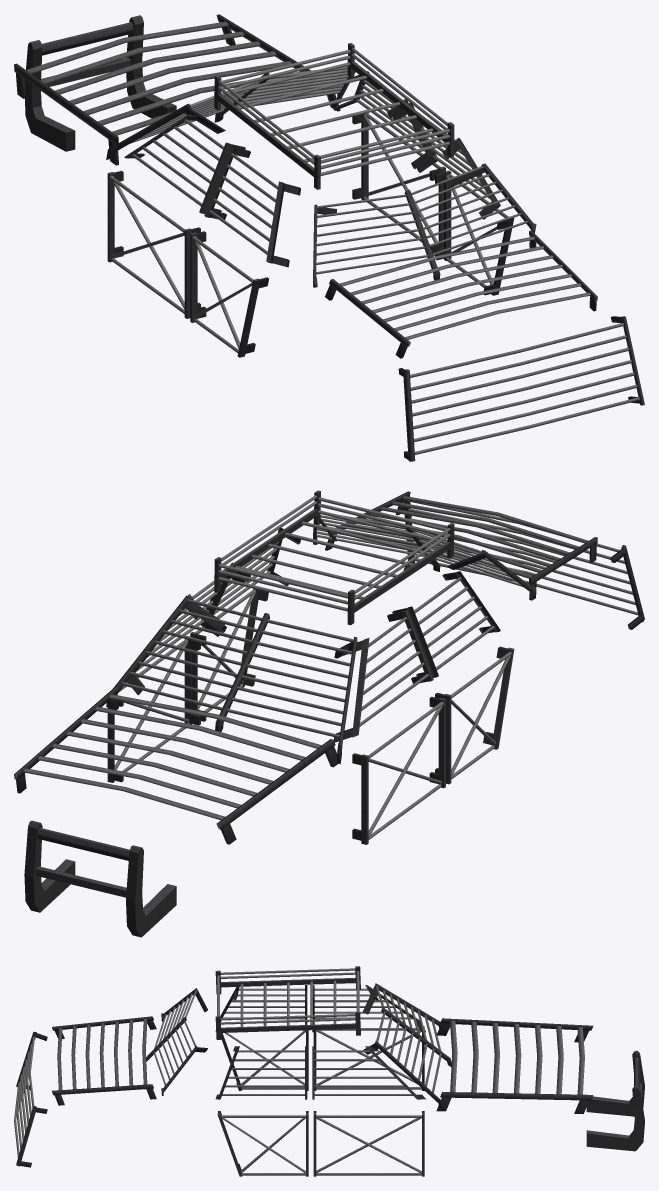
File: Vehicles_CarNormal_Light.fbx
The picture shows the model from 3 angles, top to bottom: view 1: azimuth 30°, elevation 25°; view 2: azimuth 150°, elevation 25°; view 3: azimuth 270°, elevation 25°; orthographic projection. The views are drawn at different scales.
Parts seen in each view (by area): view 1: normal_light_trunk_armor, normal_light_roofrack, normal_light_hood_armor, normal_light_rear_windshield_armor, normal_light_bullbar_armor, normal_light_windshield_armor, normal_light_front_left_door_armor, normal_light_rear_left_window_armor, normal_light_rear_left_door_armor, normal_light_front_left_window_armor, normal_light_front_right_door_armor, normal_light_rear_right_door_armor (+2 smaller); view 2: normal_light_hood_armor, normal_light_roofrack, normal_light_trunk_armor, normal_light_windshield_armor, normal_light_bullbar_armor, normal_light_rear_windshield_armor, normal_light_front_left_door_armor, normal_light_front_left_window_armor, normal_light_rear_left_door_armor, normal_light_rear_left_window_armor, normal_light_front_right_door_armor, normal_light_rear_right_door_armor (+2 smaller); view 3: normal_light_hood_armor, normal_light_trunk_armor, normal_light_roofrack, normal_light_windshield_armor, normal_light_bullbar_armor, normal_light_rear_windshield_armor, normal_light_front_right_door_armor, normal_light_front_right_window_armor, normal_light_rear_right_window_armor, normal_light_rear_right_door_armor, normal_light_front_left_door_armor, normal_light_front_left_window_armor (+2 smaller).
Part boxes in pixels (x1,y1,x2,y2): normal_light_trunk_armor: (325,230,644,461); normal_light_roofrack: (214,43,454,189); normal_light_hood_armor: (14,14,340,165); normal_light_rear_windshield_armor: (313,163,536,287); normal_light_bullbar_armor: (25,15,176,151); normal_light_windshield_armor: (106,63,357,159); normal_light_front_left_door_armor: (107,170,200,318); normal_light_rear_left_window_armor: (204,146,300,267); normal_light_rear_left_door_armor: (190,231,268,357); normal_light_front_left_window_armor: (124,115,245,213); normal_light_front_right_door_armor: (352,113,445,255); normal_light_rear_right_door_armor: (435,170,514,295); normal_light_hood_armor: (14,686,337,844); normal_light_roofrack: (214,490,454,625); normal_light_trunk_armor: (325,491,644,629); normal_light_windshield_armor: (106,595,357,764); normal_light_bullbar_armor: (24,820,176,937); normal_light_rear_windshield_armor: (313,515,536,598); normal_light_front_left_door_armor: (352,696,445,844); normal_light_front_left_window_armor: (333,610,433,742); normal_light_rear_left_door_armor: (435,646,514,784); normal_light_rear_left_window_armor: (392,571,500,677); normal_light_front_right_door_armor: (107,636,200,782); normal_light_rear_right_door_armor: (190,588,268,721); normal_light_hood_armor: (436,1018,593,1114); normal_light_trunk_armor: (14,1016,156,1167); normal_light_roofrack: (215,966,360,1039); normal_light_windshield_armor: (363,983,451,1110); normal_light_bullbar_armor: (586,1050,644,1151); normal_light_rear_windshield_armor: (146,988,207,1095); normal_light_front_right_door_armor: (313,1111,424,1176); normal_light_front_right_window_armor: (312,1046,425,1099); normal_light_rear_right_window_armor: (215,1046,307,1099); normal_light_rear_right_door_armor: (217,1111,308,1176); normal_light_front_left_door_armor: (313,1026,424,1090); normal_light_front_left_window_armor: (312,985,425,1032).
Size of the model in its own units: 0.9076 by 0.6827 by 2.73.
